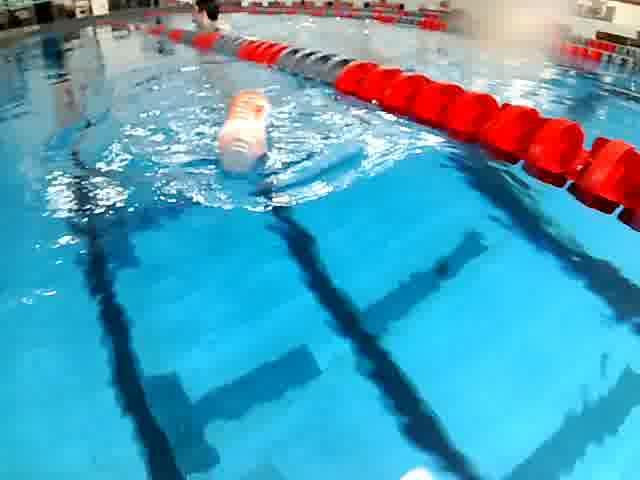Bottle: (210, 88, 274, 184)
